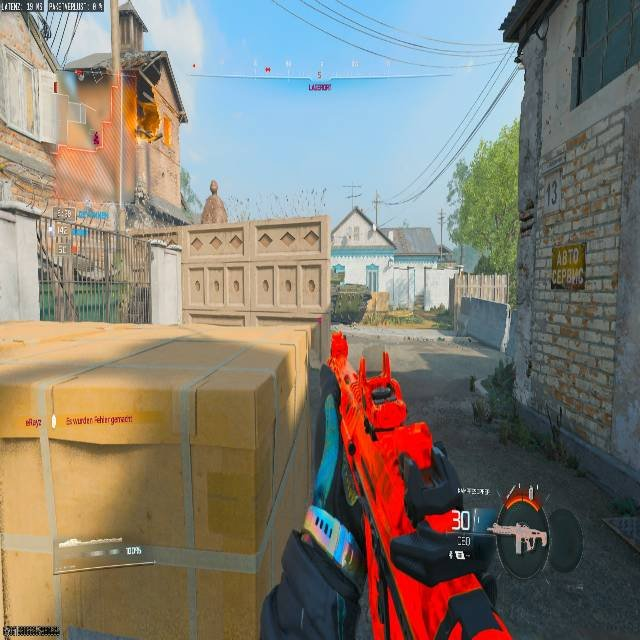player: (360, 290, 371, 318)
